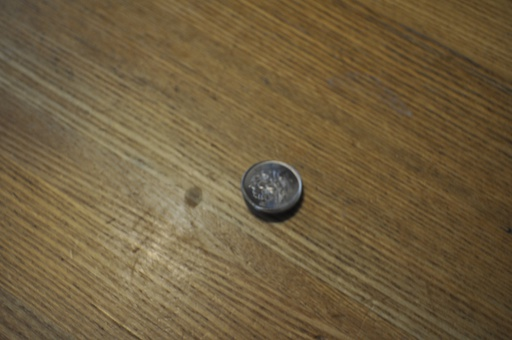100yen: (242, 161, 303, 216)
